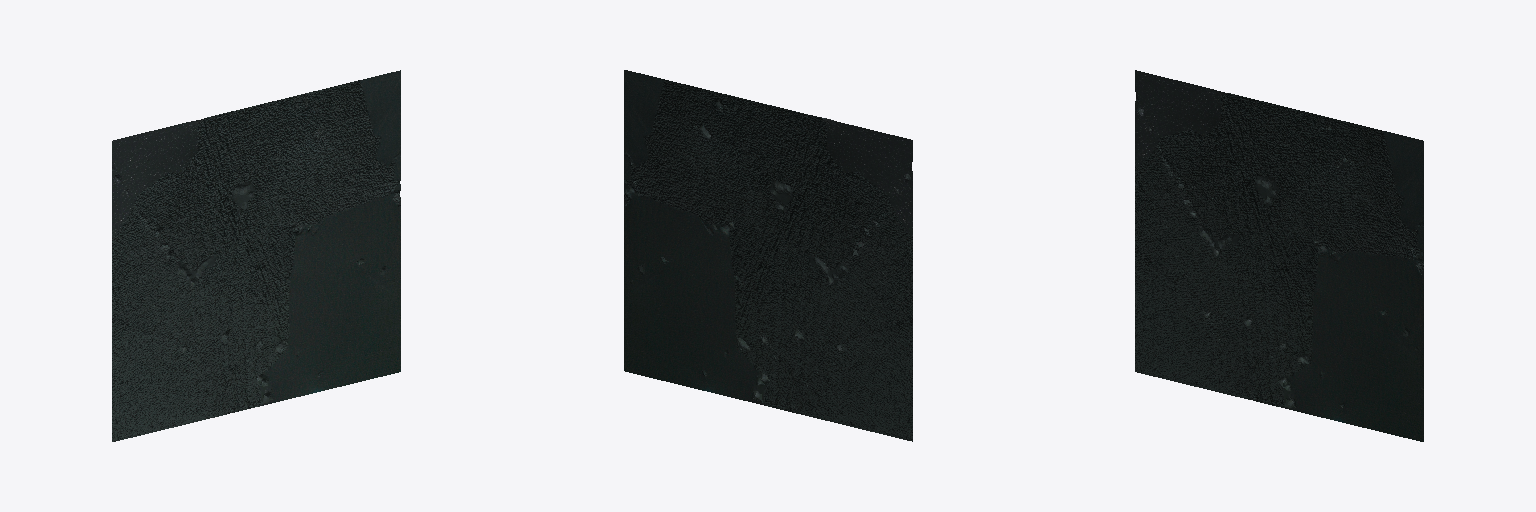
3 renders of one model, left to right at view 1: azimuth 30°, elevation 25°; view 2: azimuth 150°, elevation 25°; view 3: azimuth 330°, elevation 25°, orthographic.
Bounding box in the file's own units: 252 × 252 × 9.
Materials: 2 (1 with a texture image).